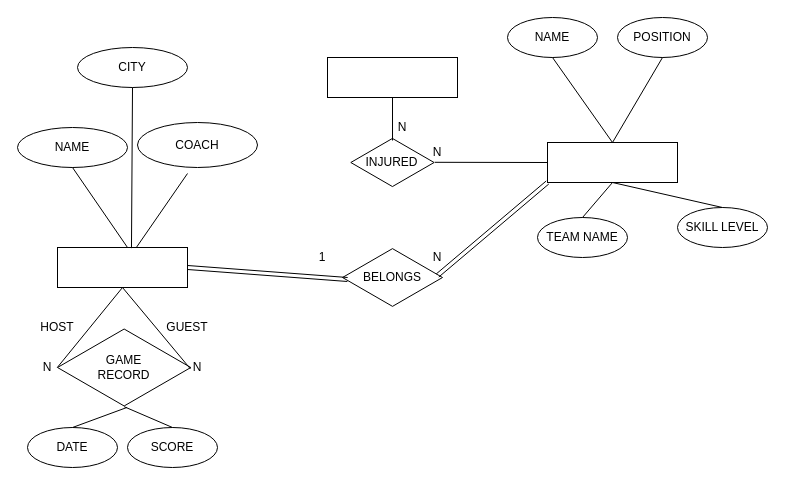
This 785x485 diagram has some shape labels left out. The centre of each missing label's shape, as x and y in pixels:
"INJURY RECORD" goes at point 392,77.
"PLAYER" goes at point 612,162.
"TEAM" goes at point 122,267.
